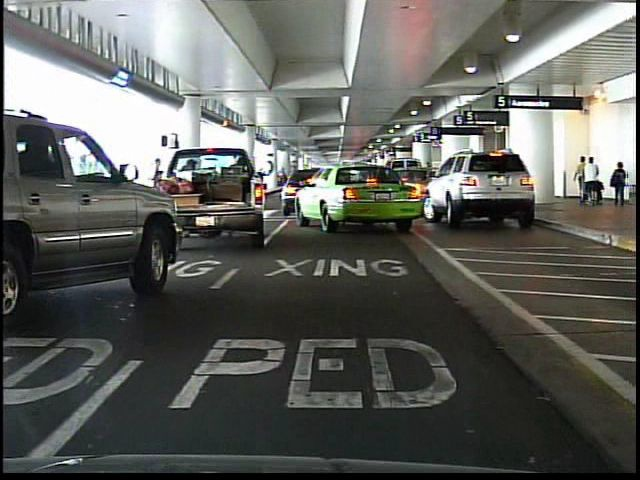person: (144, 155, 171, 219), (608, 160, 632, 207), (583, 154, 601, 209), (575, 156, 588, 205)
